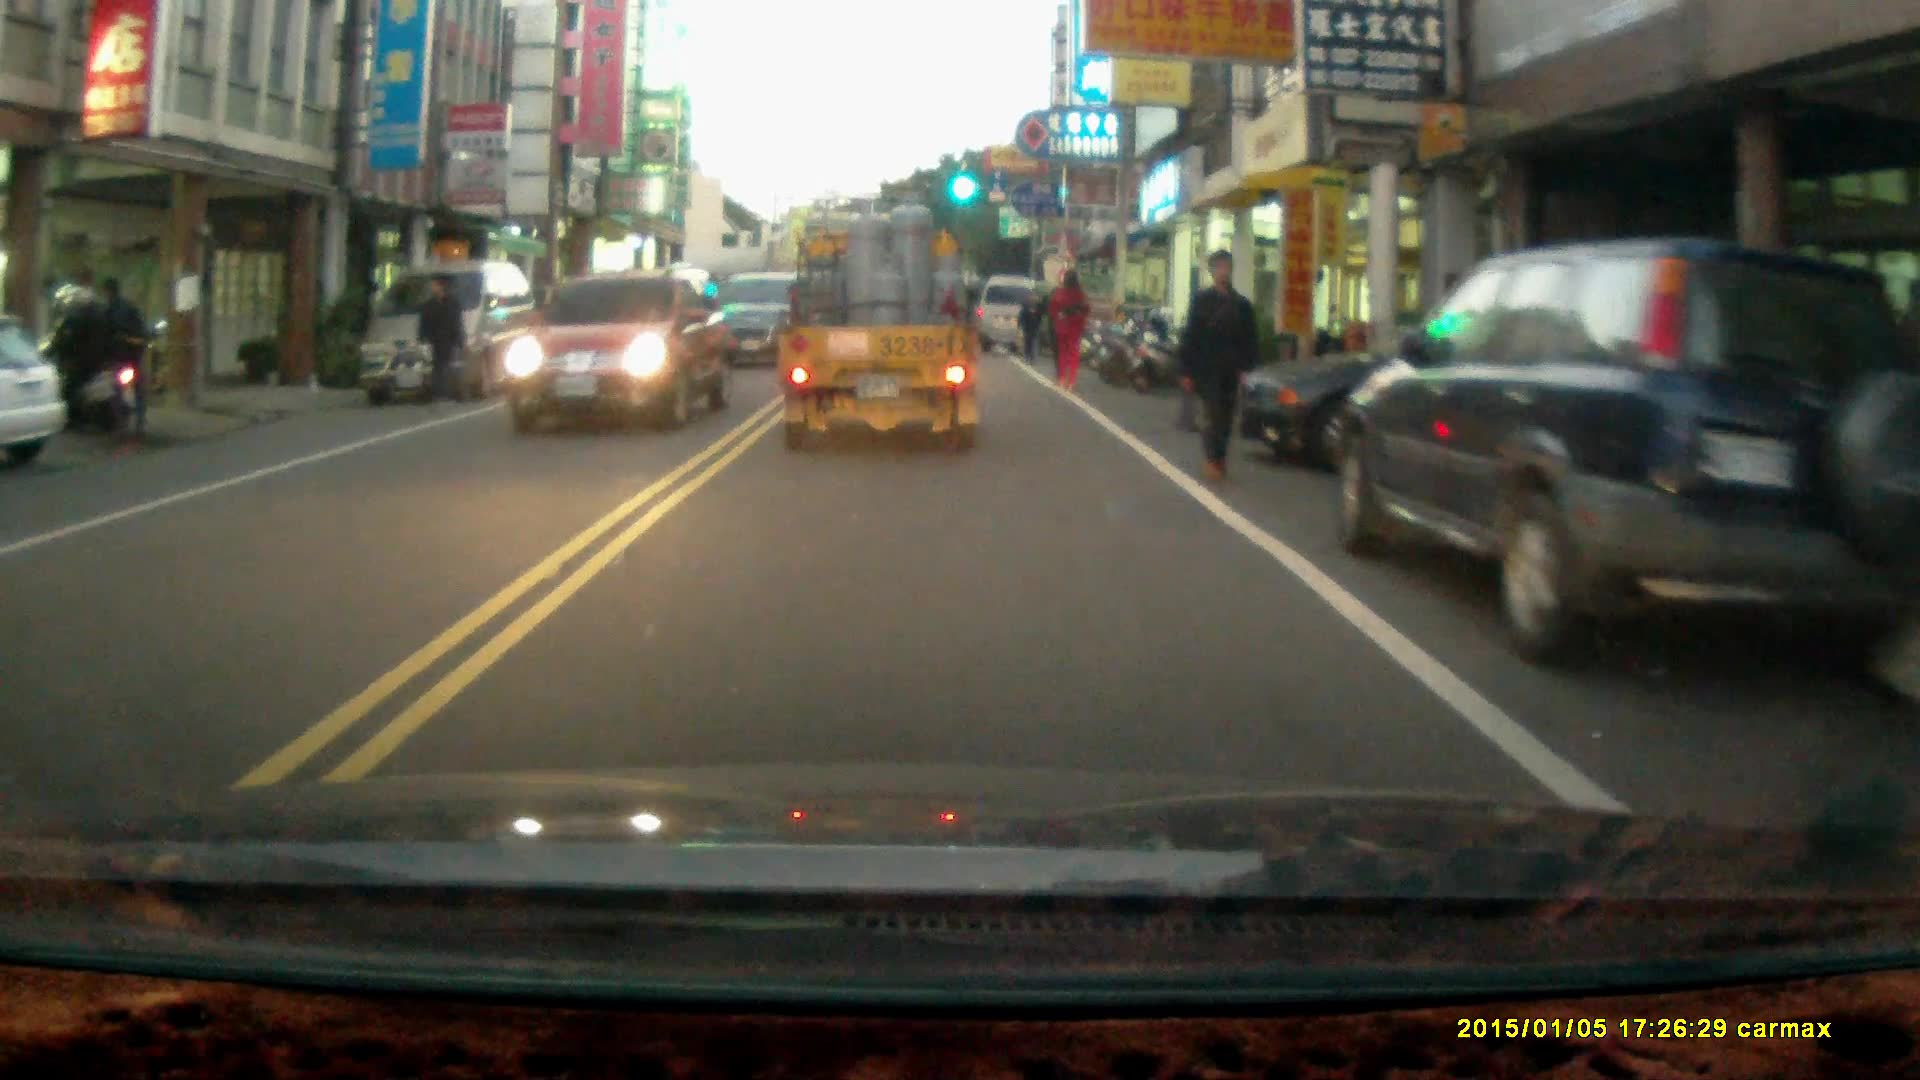pedestrian: (1176, 249, 1259, 492), (91, 278, 154, 447), (411, 272, 466, 418), (1049, 266, 1088, 389), (1015, 292, 1042, 359)
rider: (34, 283, 139, 441)
vehicle: (1330, 233, 1907, 685), (775, 203, 983, 471), (505, 265, 740, 431), (703, 275, 816, 379), (1, 329, 72, 472), (984, 272, 1056, 355)
